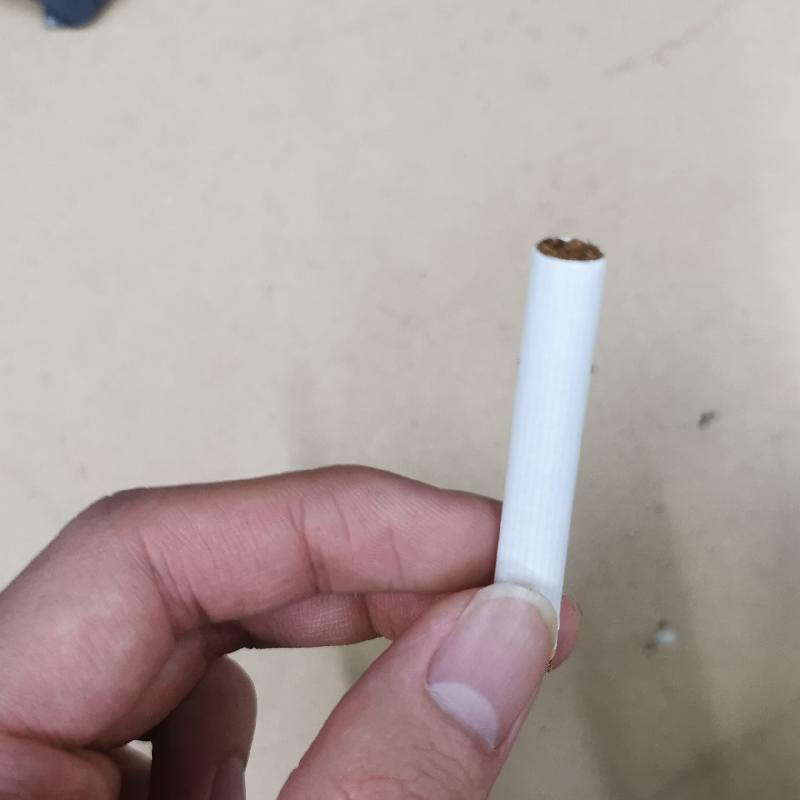cigarette: (493, 235, 608, 642)
